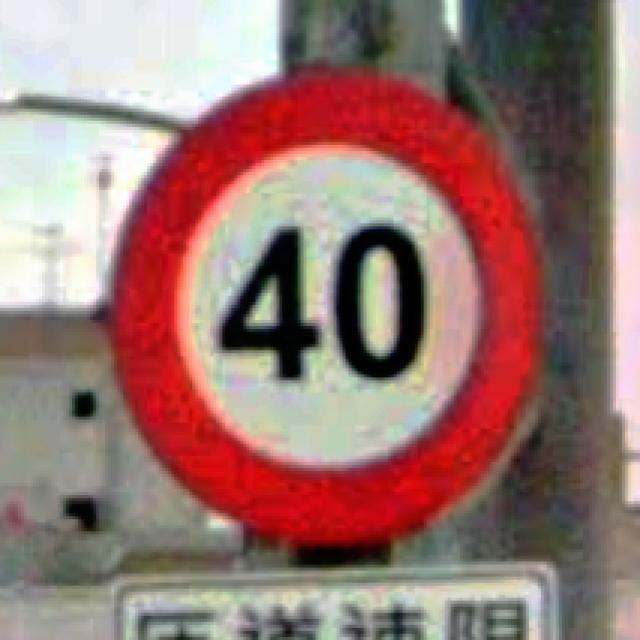max40: (102, 61, 547, 550)
